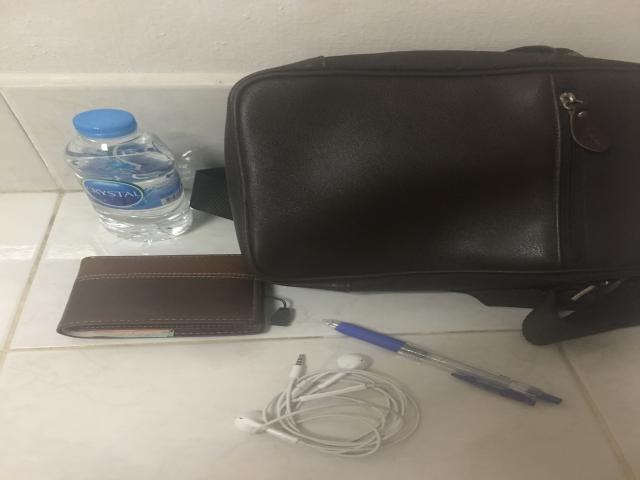Pen: (323, 319, 562, 405)
Wallet: (57, 253, 267, 338)
bottle: (65, 109, 192, 241)
wire: (235, 353, 420, 457)
